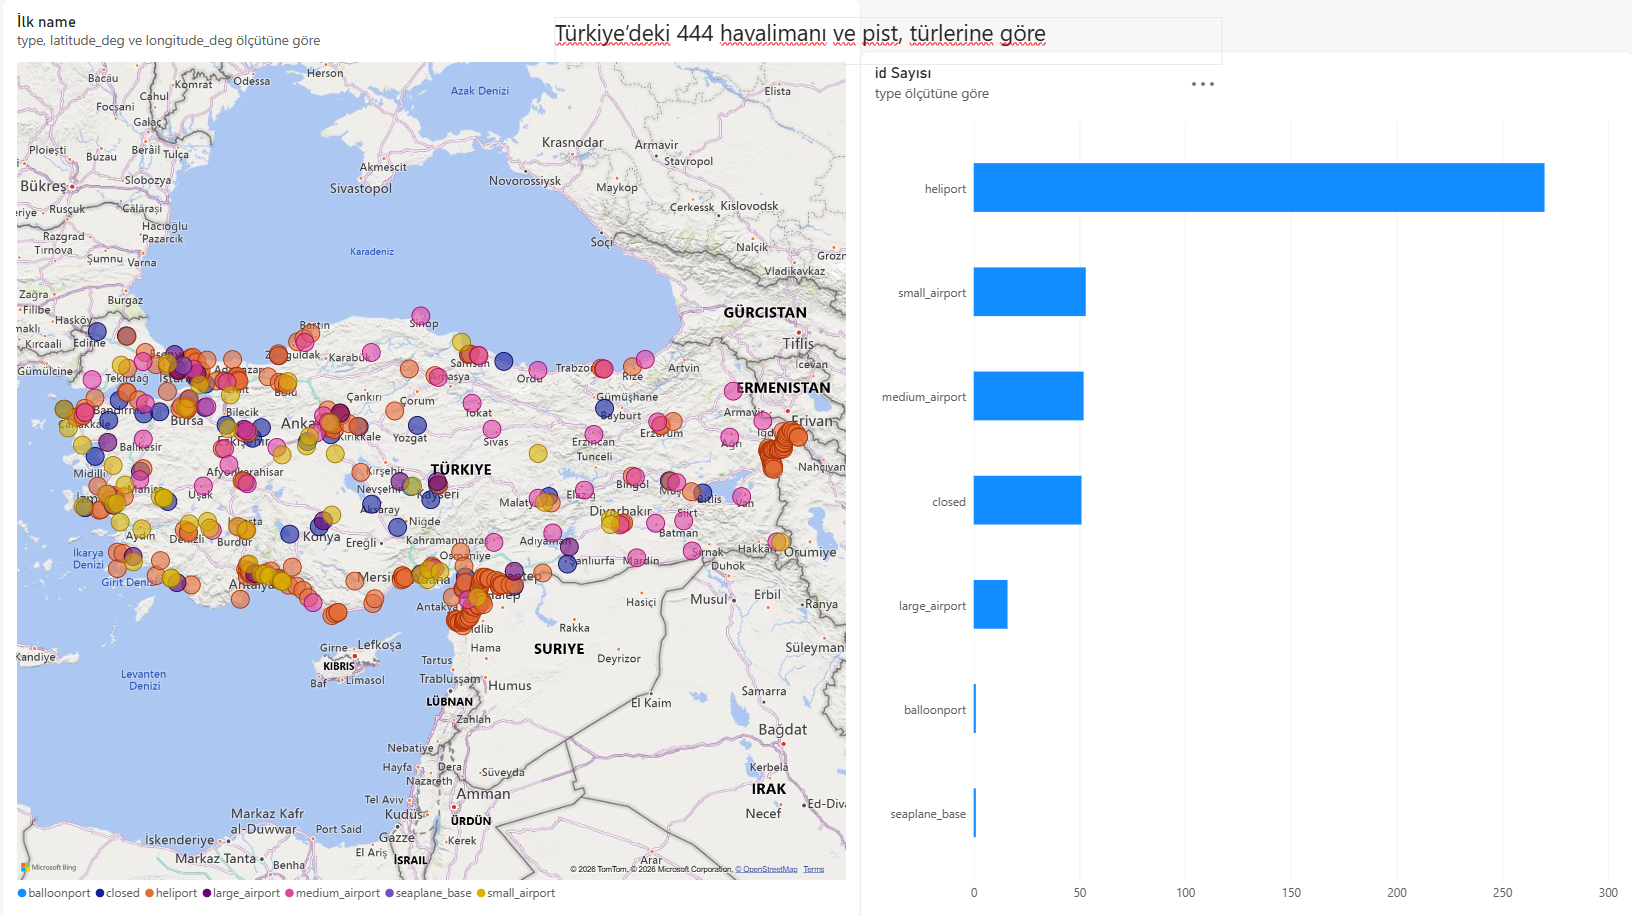

What the dashboard file says about the page in this screenshot:
{"tool":"powerbi","page":{"name":"1. sayfa","canvas":[1920,1080],"ordinal":0},"visuals":[{"type":"clusteredColumnChart","box":[10,0,280,280],"z":0},{"type":"map","fields":{"Series":["airports.type"],"X":["airports.longitude_deg"],"Y":["airports.latitude_deg"]},"box":[8.8,0,1005.4,1079.2],"z":1000},{"type":"barChart","fields":{"Category":["airports.type"],"Y":["CountNonNull(airports.id)"]},"box":[1014.2,61.5,905.2,1017.7],"z":2000},{"type":"textbox","box":[538.9,935.5,206.4,66.5],"z":5000},{"type":"textbox","box":[655.6,21.1,782.2,56.2],"z":5001}]}

Visuals, with their boxes in screenshot pixels (x1, y1, x2, y2), scaled from the page's 1920x1080 canvas onto the 1632x916 screenshot:
clusteredColumnChart: locate(8, 0, 246, 237)
map - airports.type x airports.longitude_deg: locate(7, 0, 862, 915)
barChart - airports.type x CountNonNull(airports.id): locate(862, 52, 1631, 915)
textbox: locate(458, 793, 634, 850)
textbox: locate(557, 18, 1222, 66)
